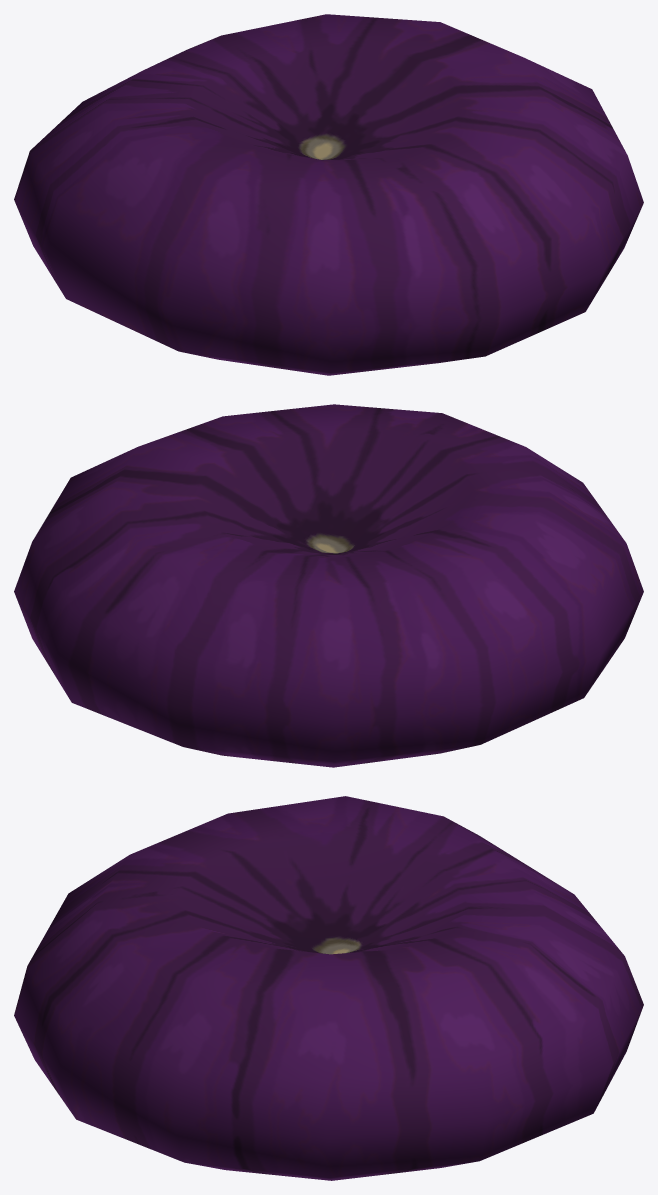
The model's file is SM_PROP_pillow_interior_02.fbx.
The picture shows the model from 3 angles, top to bottom: view 1: azimuth 30°, elevation 25°; view 2: azimuth 150°, elevation 25°; view 3: azimuth 270°, elevation 25°; orthographic projection.
Parts seen in each view (by area): view 1: SM_PROP_pillow_interior_02; view 2: SM_PROP_pillow_interior_02; view 3: SM_PROP_pillow_interior_02.
Boxes of the visible parts, bbox=[...] form: SM_PROP_pillow_interior_02: bbox=[14, 14, 643, 375]; SM_PROP_pillow_interior_02: bbox=[14, 404, 643, 767]; SM_PROP_pillow_interior_02: bbox=[14, 796, 643, 1180].
Bounding box in the file's own units: 53.39 × 17.7 × 51.75.
